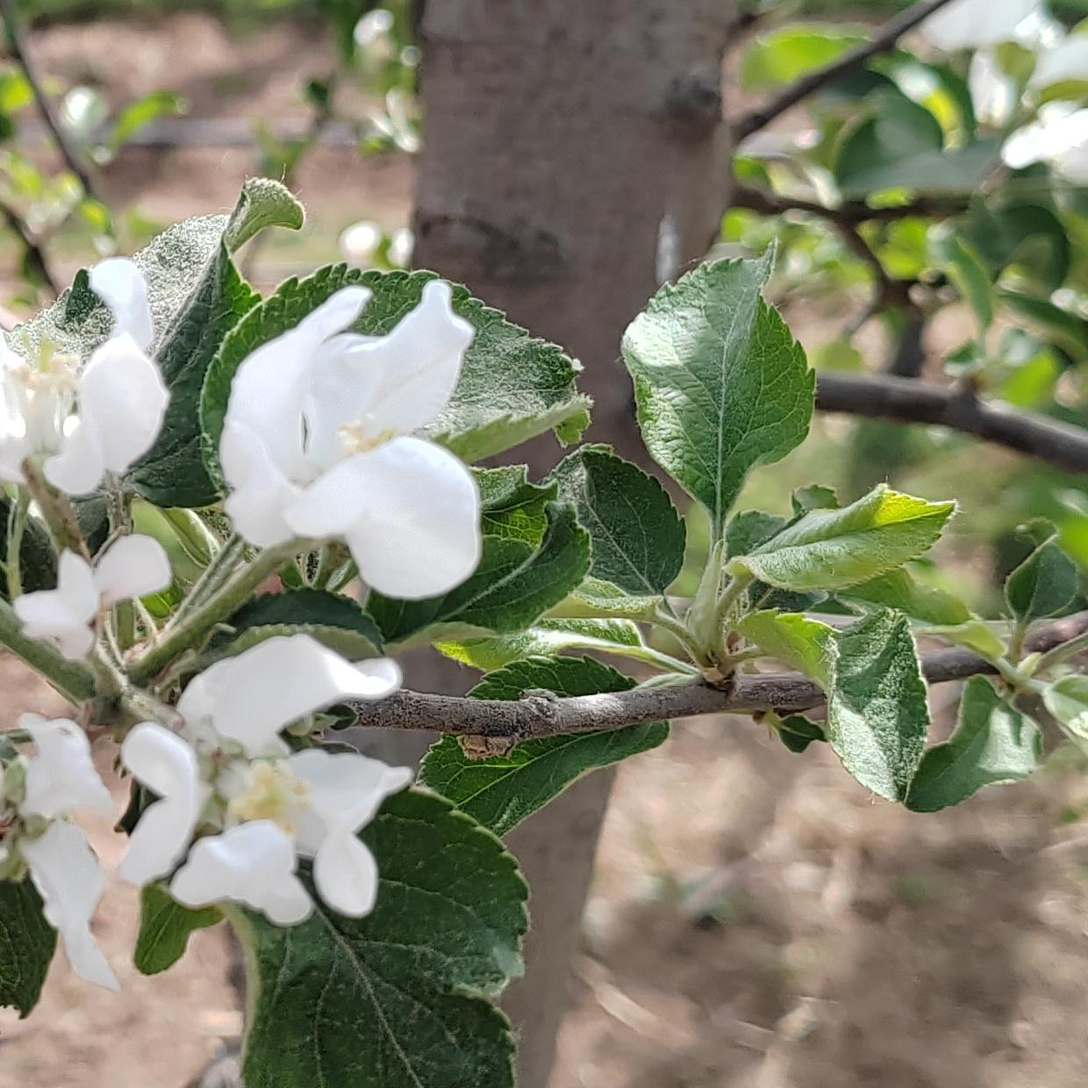apple_flower: (118, 634, 410, 927), (220, 278, 482, 597), (0, 257, 169, 495), (0, 715, 118, 986), (13, 532, 172, 659)
